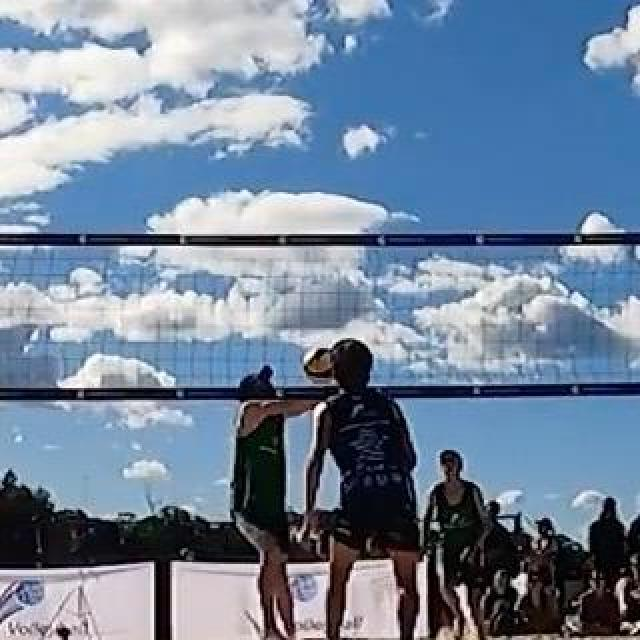volleyball: (302, 349, 328, 377)
